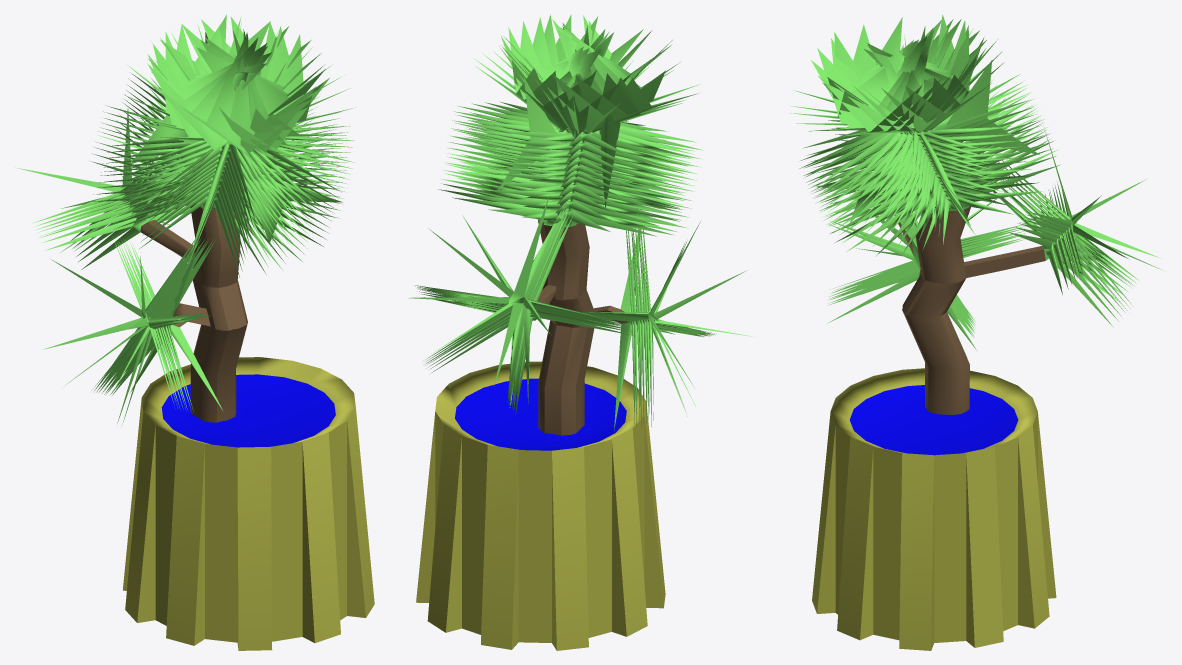
File: PottedTree3.fbx
The picture shows the model from 3 angles, left to right: view 1: azimuth 30°, elevation 25°; view 2: azimuth 150°, elevation 25°; view 3: azimuth 270°, elevation 25°; orthographic projection. The views are drawn at different scales.
Visible parts, largest first — view 1: pCylinder2; view 2: pCylinder2; view 3: pCylinder2.
Part boxes in pixels (bbox=[...]): pCylinder2: bbox=[15, 14, 374, 650]; pCylinder2: bbox=[408, 14, 751, 650]; pCylinder2: bbox=[789, 15, 1163, 650].
Size of the model in its own units: 3.14 by 5.9 by 3.68.
